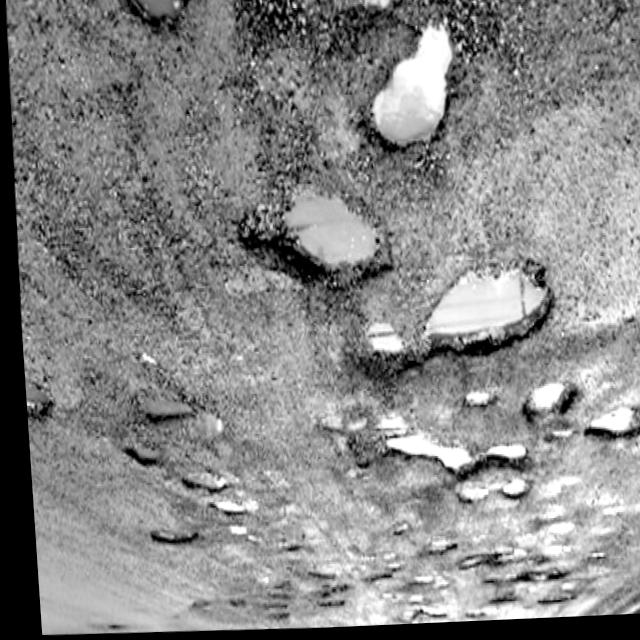pathole: (58, 0, 634, 628), (582, 377, 640, 457)
